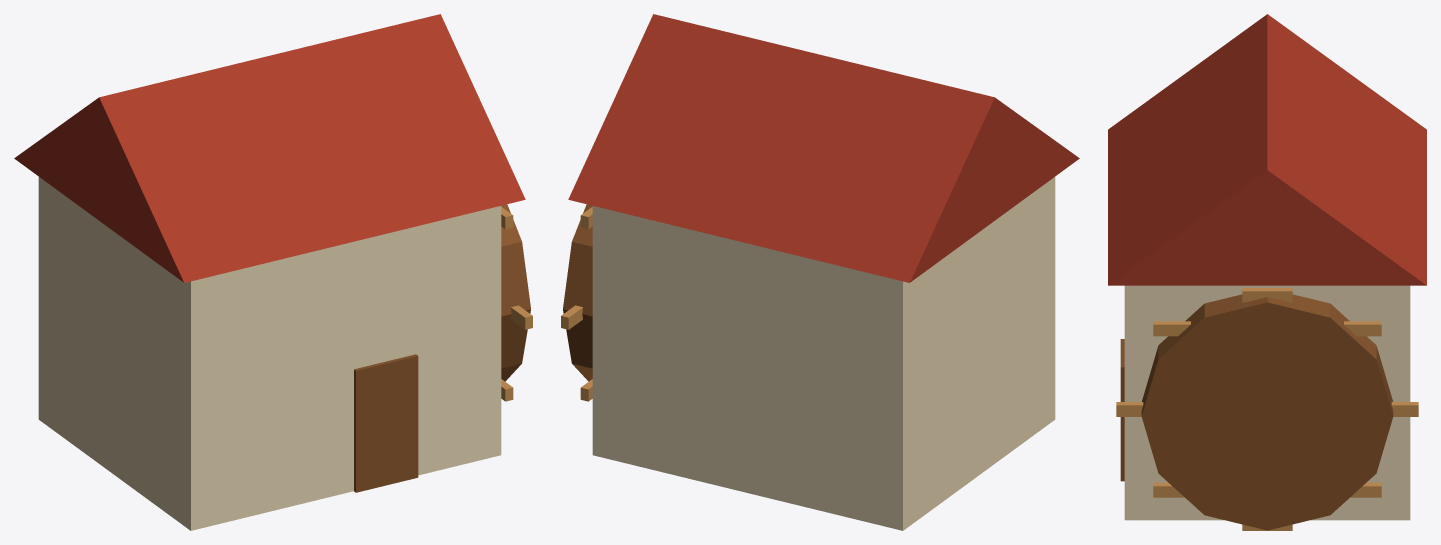
The model's file is town_watermill.glb.
The picture shows the model from 3 angles, left to right: view 1: azimuth 30°, elevation 25°; view 2: azimuth 150°, elevation 25°; view 3: azimuth 270°, elevation 25°; orthographic projection. The views are drawn at different scales.
Visible parts, largest first — view 1: watermill; view 2: watermill; view 3: watermill.
Boxes of the visible parts, left/top/right/bottom form: watermill: left=14, top=14, right=532, bottom=530; watermill: left=561, top=14, right=1079, bottom=530; watermill: left=1108, top=14, right=1426, bottom=530.
Size of the model in its own units: 4.7 by 4.7 by 3.8.
